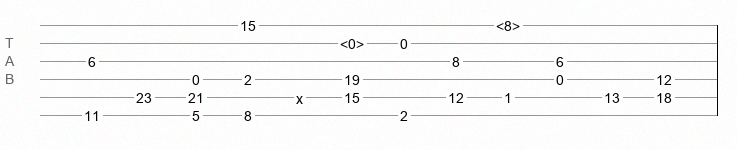0: (192, 72, 200, 82), (400, 36, 408, 46), (556, 72, 564, 82)
1: (504, 90, 512, 100)
11: (84, 108, 100, 118)
12: (448, 90, 464, 100), (656, 72, 672, 82)
13: (604, 90, 620, 100)
15: (240, 18, 256, 28), (344, 90, 360, 100)
18: (656, 90, 672, 100)
19: (344, 72, 360, 82)
2: (244, 72, 252, 82), (400, 108, 408, 118)
21: (188, 90, 204, 100)
23: (136, 90, 152, 100)
5: (192, 108, 200, 118)
6: (88, 54, 96, 64), (556, 54, 564, 64)
8: (244, 108, 252, 118), (452, 54, 460, 64)
harmonic: (340, 36, 364, 46), (496, 18, 520, 28)
x: (296, 91, 303, 99)
